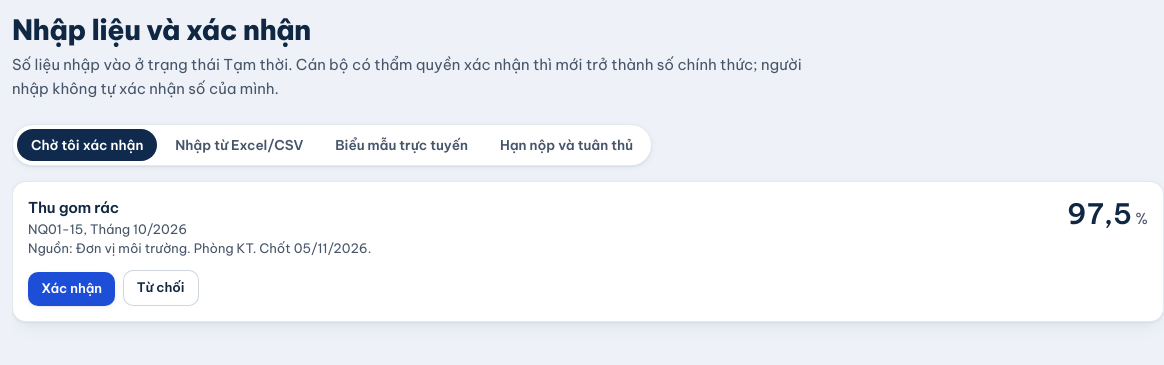
Test case: Nhập liệu và xác nhận › từ chối số liệu phải ghi lý do
Click the button "Từ chối". click: (161, 288)
box: [123,270,199,306]
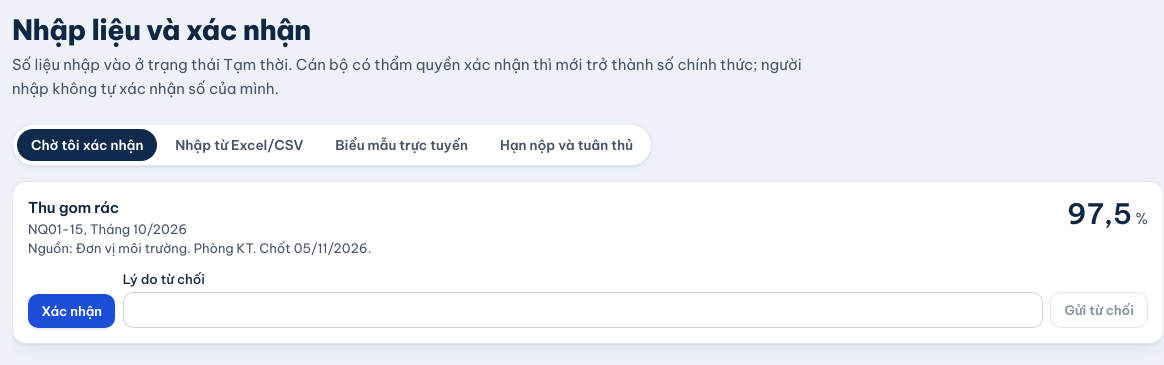
Expected: the button "Gửi từ chối" is disabled, [1050,292,1148,328]
Type "Sai kỳ chốt" into the field labelled "Lý do từ chối". click: (583, 310)
box: [123,292,1043,328]
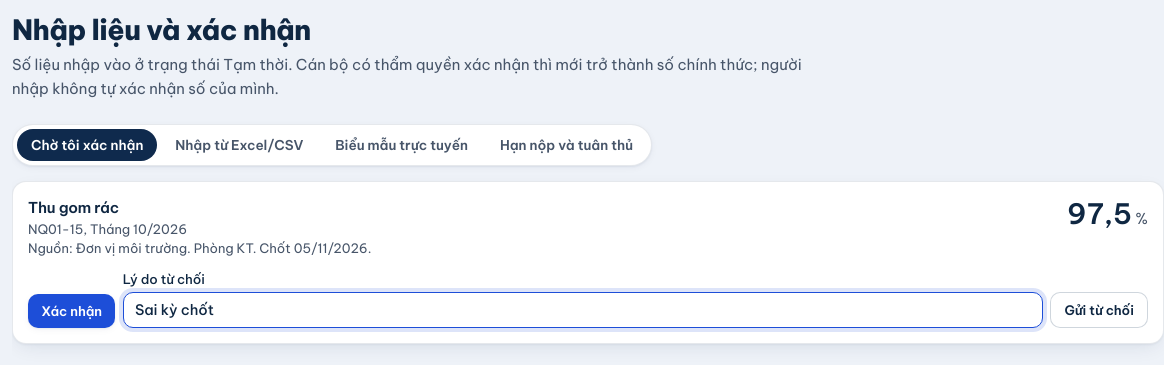
Expected: the button "Gửi từ chối" is enabled, [1050,292,1148,328]
